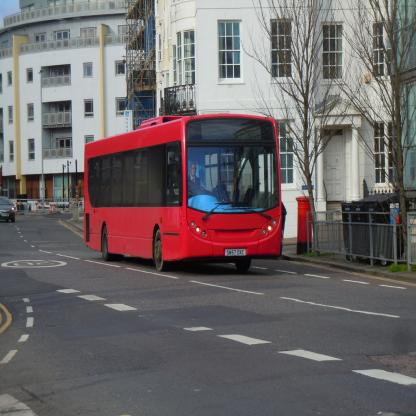Car: (1, 195, 16, 225)
